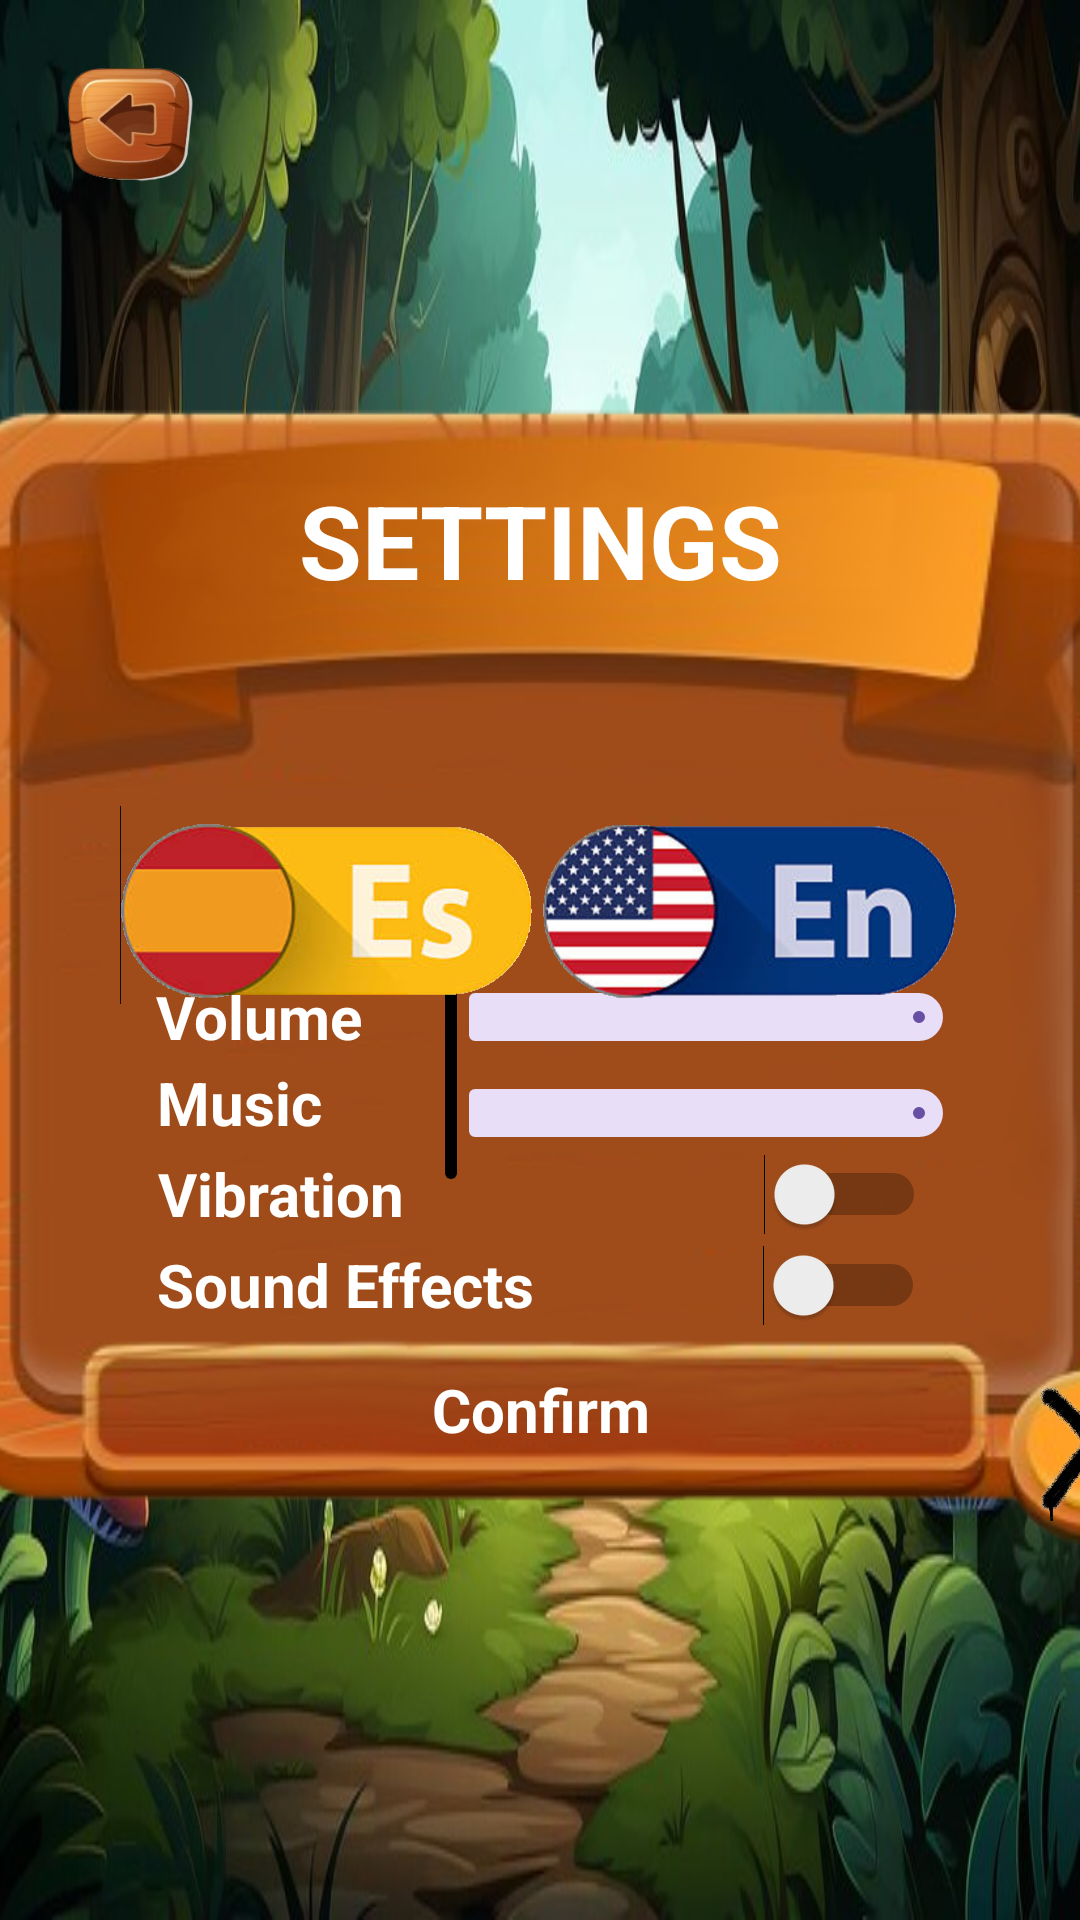

Where to tap for icons on this 1080*1920 app screen, as [x,y]:
go back: [128,121]
